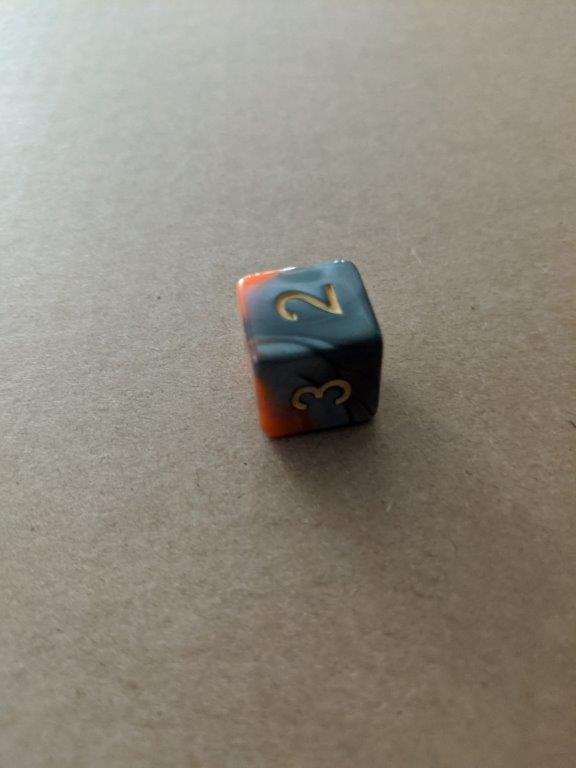d6-2: (236, 257, 384, 437)
